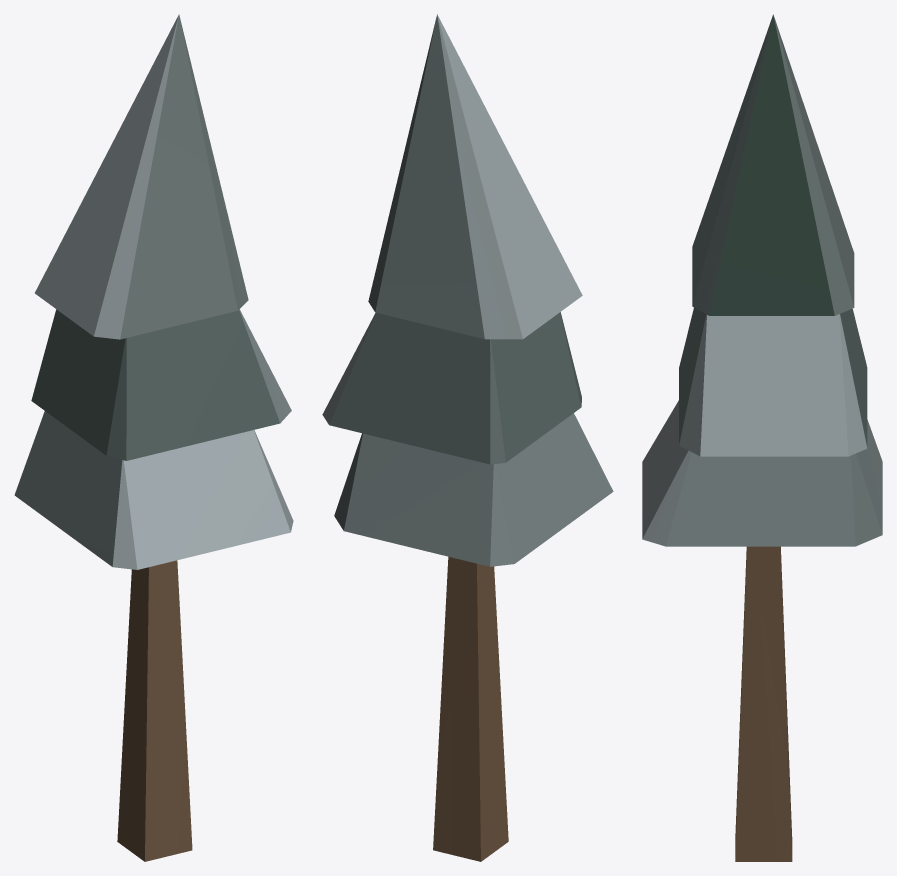
File: tree_pineTallA.glb
3 views of the same model, side by side, from view 1: azimuth 30°, elevation 25°; view 2: azimuth 150°, elevation 25°; view 3: azimuth 270°, elevation 25° (orthographic). The views are drawn at different scales.
Visible parts, largest first — view 1: tree_pineTallA; view 2: tree_pineTallA; view 3: tree_pineTallA.
Boxes of the visible parts, bbox=[...] form: tree_pineTallA: bbox=[14, 14, 293, 861]; tree_pineTallA: bbox=[322, 14, 613, 861]; tree_pineTallA: bbox=[642, 14, 882, 861].
Bounding box in the file's own units: 0.3863 × 1.53 × 0.392.
